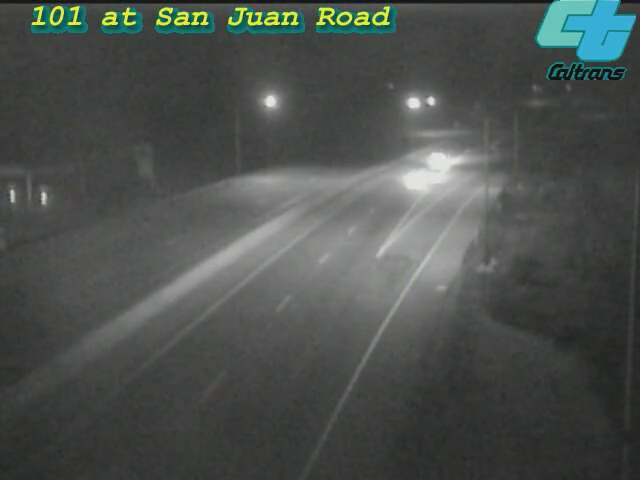vehicle: (397, 120, 477, 200), (378, 140, 458, 220)
